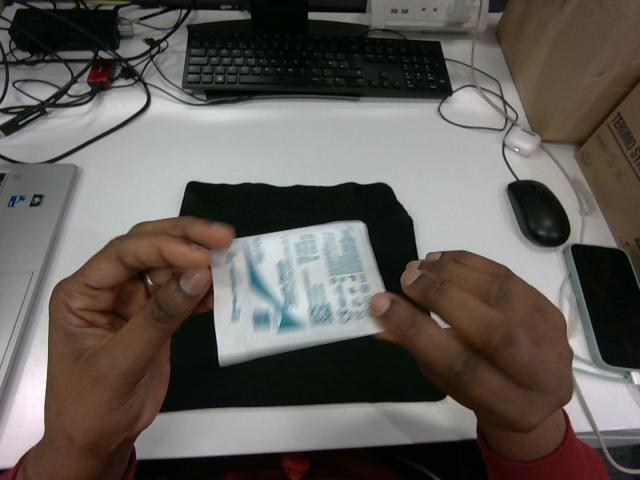gauze: (212, 221, 383, 366)
